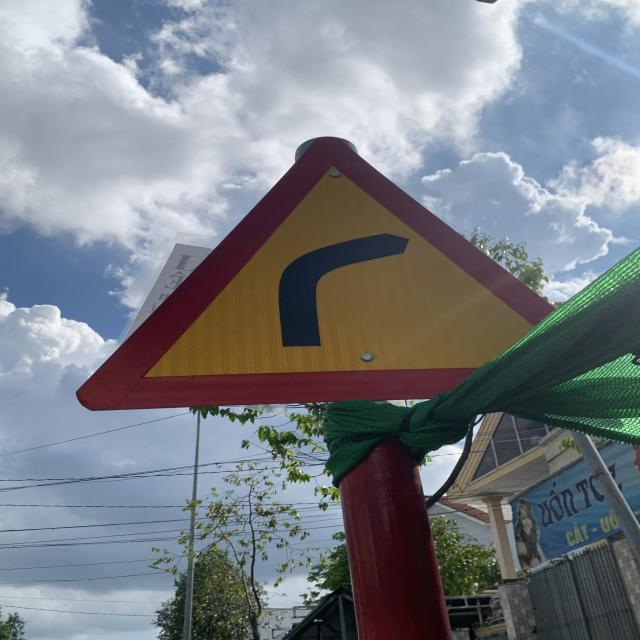Duong_Nguoi_Di_Bo_Cat_Ngang: (73, 138, 500, 404)
